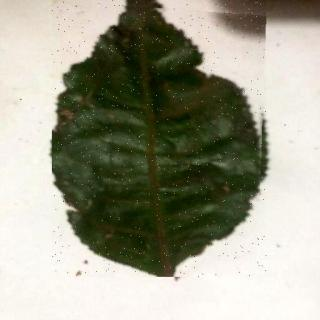Red Leaf Spot: (53, 1, 267, 278)
